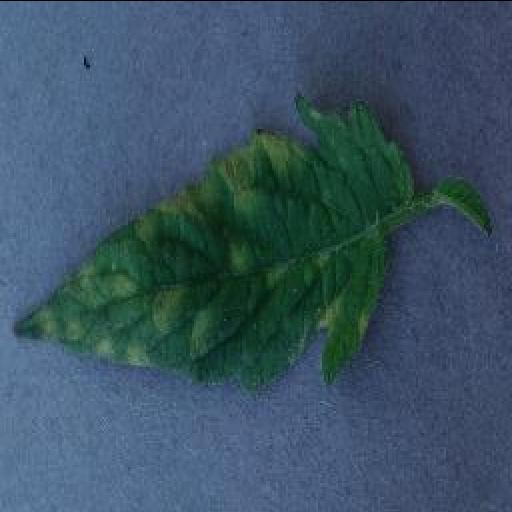disease_tomato: (10, 93, 416, 394)
